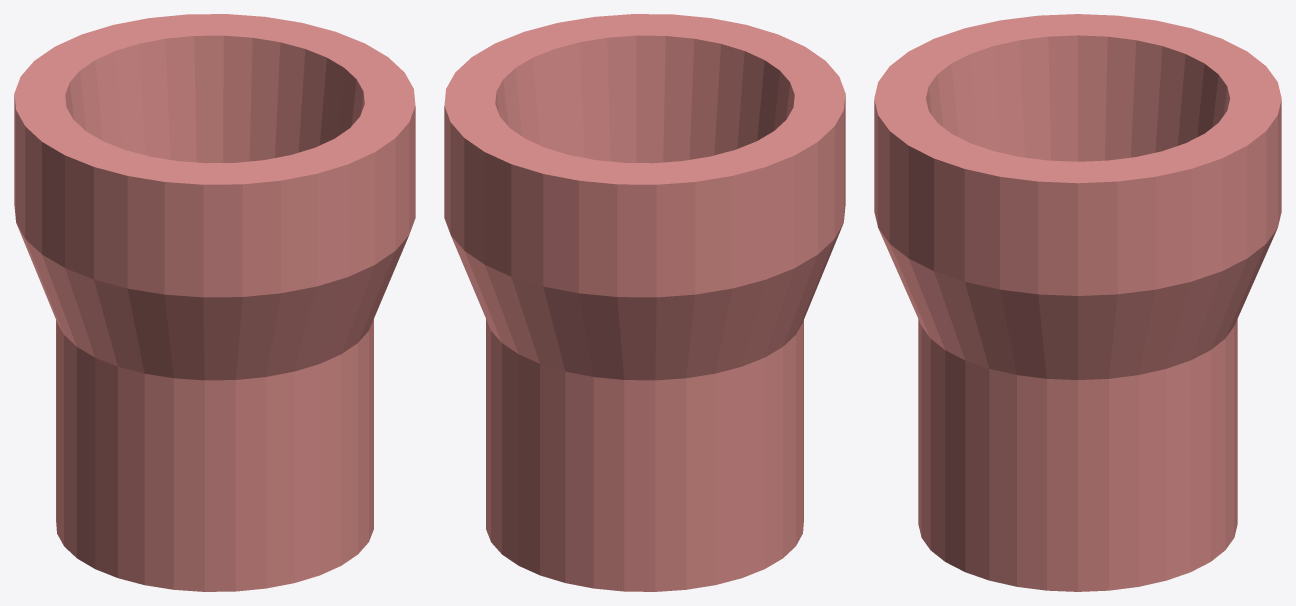
File: pipe.fbx
3 renders of one model, left to right at view 1: azimuth 30°, elevation 25°; view 2: azimuth 150°, elevation 25°; view 3: azimuth 270°, elevation 25°, orthographic.
Parts seen in each view (by area): view 1: Cylinder; view 2: Cylinder; view 3: Cylinder.
Boxes of the visible parts, x1,y1,x2,y2 form: Cylinder: (14,14,415,591); Cylinder: (444,14,845,591); Cylinder: (874,14,1281,591).
Bounding box in the file's own units: 75.29 × 76.63 × 88.37.
